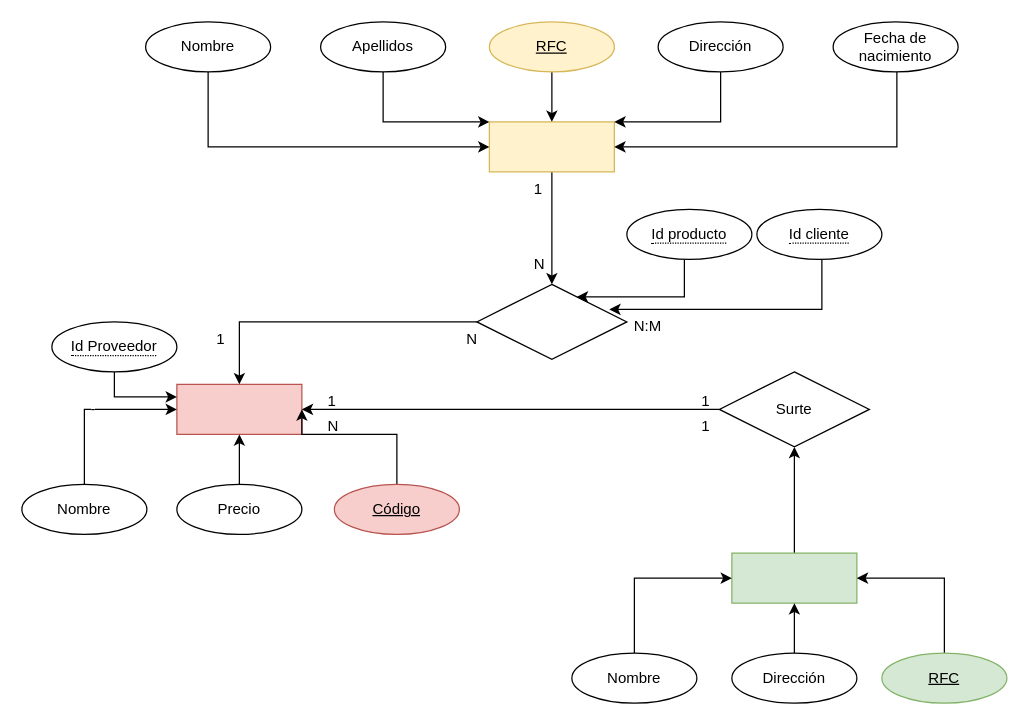
The diagram is 1029 pixels wide and 725 high, and some of its shapes have lost their labels. The shapes that lost their labels are listed below. From the top down, each one's box as (x1, y1, x2, y2) in pixels, then its label:
(488, 121, 614, 172): Cliente
(476, 283, 627, 359): Compra
(176, 383, 302, 434): Producto
(731, 552, 857, 603): Proveedor
